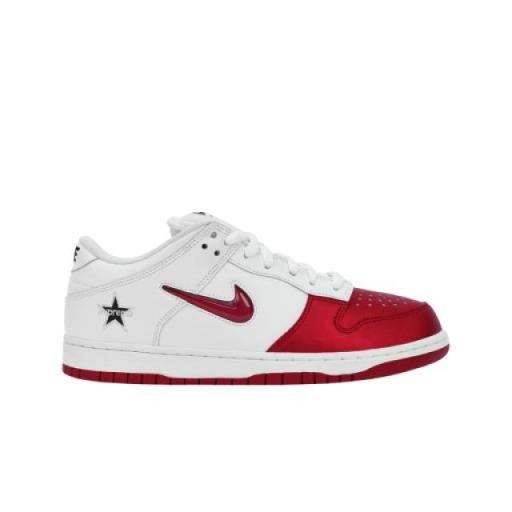Nike: (156, 275, 259, 326)
